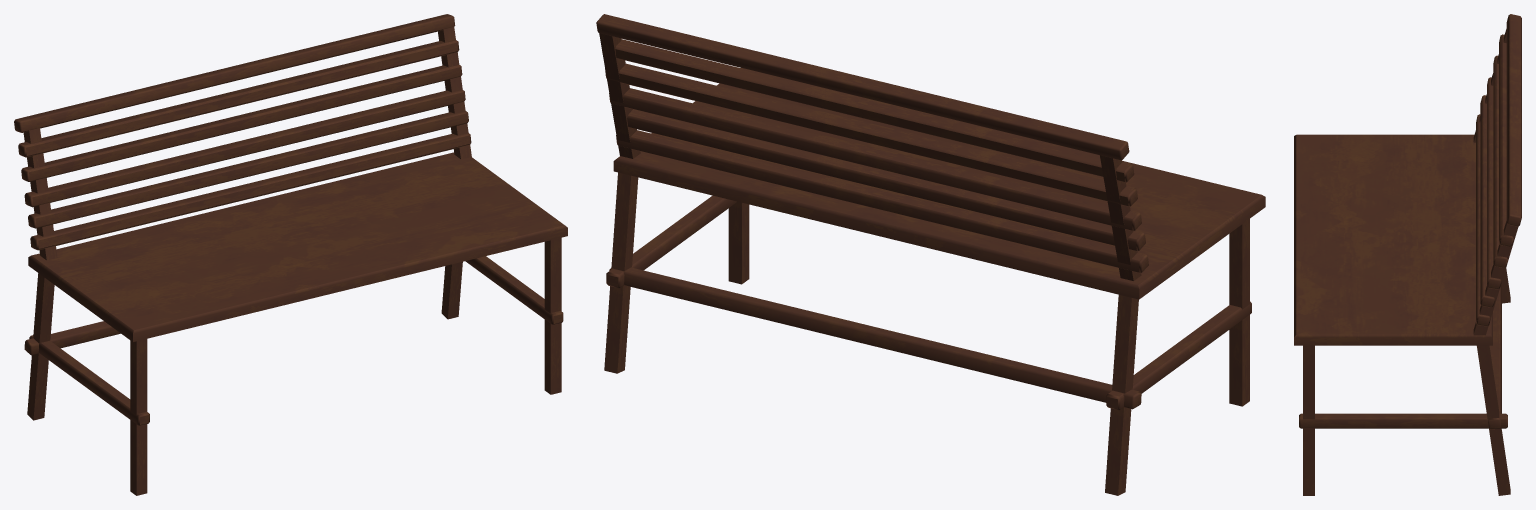
File: SM_BenchN.fbx
3 views of the same model, side by side, from view 1: azimuth 30°, elevation 25°; view 2: azimuth 150°, elevation 25°; view 3: azimuth 270°, elevation 25° (orthographic). The views are drawn at different scales.
Parts seen in each view (by area): view 1: BenchN; view 2: BenchN; view 3: BenchN.
Boxes of the visible parts, x1,y1,x2,y2 form: BenchN: [14, 14, 567, 495]; BenchN: [596, 14, 1265, 495]; BenchN: [1294, 14, 1521, 495].
Size of the model in its own units: 120 by 78.19 by 57.25.
